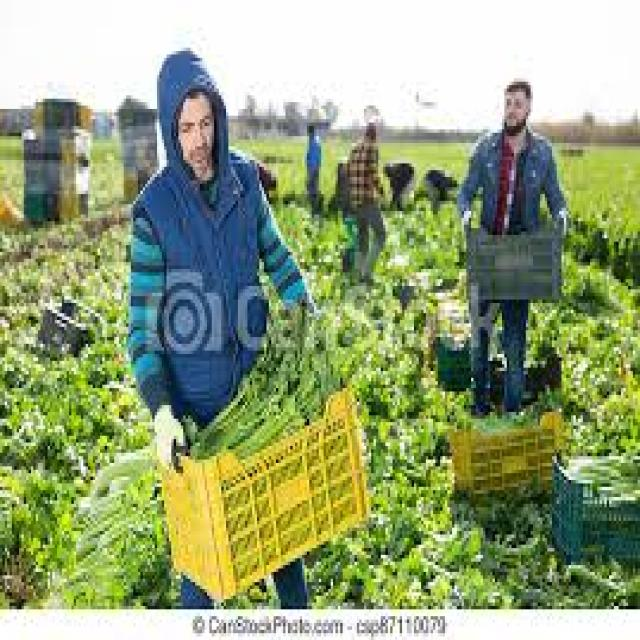basket: (130, 372, 410, 615), (450, 411, 570, 498), (554, 463, 640, 569), (467, 227, 567, 304)
